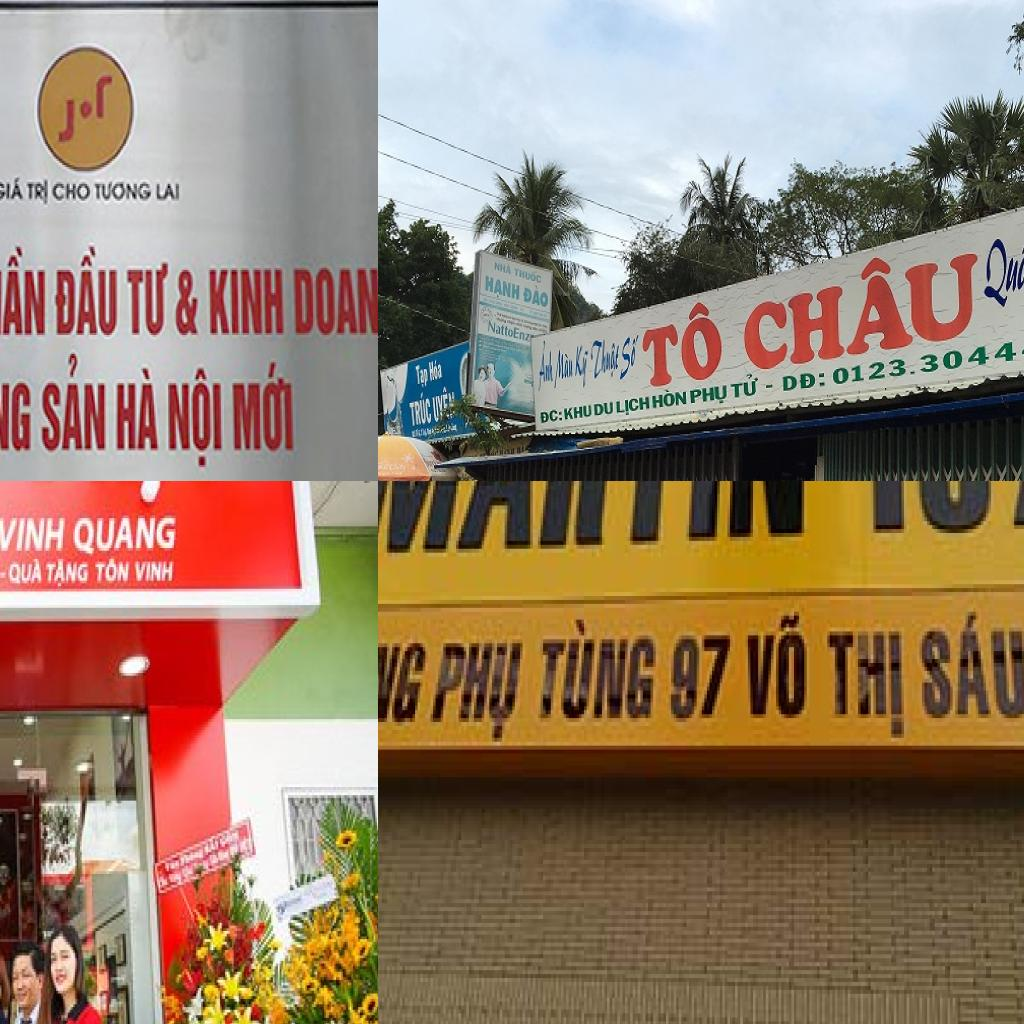text: (740, 226, 980, 374), (378, 481, 812, 560), (533, 616, 661, 726), (426, 639, 530, 750), (853, 481, 1024, 541), (825, 628, 909, 746), (641, 294, 729, 390), (743, 608, 812, 726), (38, 350, 108, 463), (50, 240, 120, 346), (288, 263, 378, 345), (229, 360, 300, 463), (205, 258, 285, 346), (669, 627, 740, 726), (164, 364, 224, 478), (378, 623, 438, 729), (71, 513, 179, 559), (113, 364, 162, 459), (120, 260, 171, 346), (0, 242, 46, 337), (0, 358, 38, 469), (981, 228, 1024, 316), (0, 515, 68, 556), (173, 264, 202, 343), (93, 175, 154, 205), (44, 556, 90, 589), (589, 338, 621, 385), (485, 273, 521, 307), (619, 332, 641, 386), (133, 559, 177, 586), (783, 368, 828, 394), (52, 178, 92, 207), (486, 318, 532, 343), (7, 559, 44, 589), (94, 556, 131, 586), (431, 382, 457, 424), (406, 389, 433, 429), (537, 338, 555, 395), (690, 383, 730, 408), (651, 386, 688, 412), (573, 343, 592, 392), (154, 178, 184, 209), (22, 175, 51, 207), (554, 347, 574, 392), (730, 373, 761, 402), (0, 171, 26, 204), (616, 394, 650, 419), (521, 282, 551, 310), (514, 265, 544, 286), (539, 404, 563, 426), (564, 402, 593, 420), (414, 362, 431, 391), (594, 399, 616, 419), (428, 357, 444, 382), (378, 460, 408, 472), (494, 258, 512, 277), (763, 379, 775, 392)
